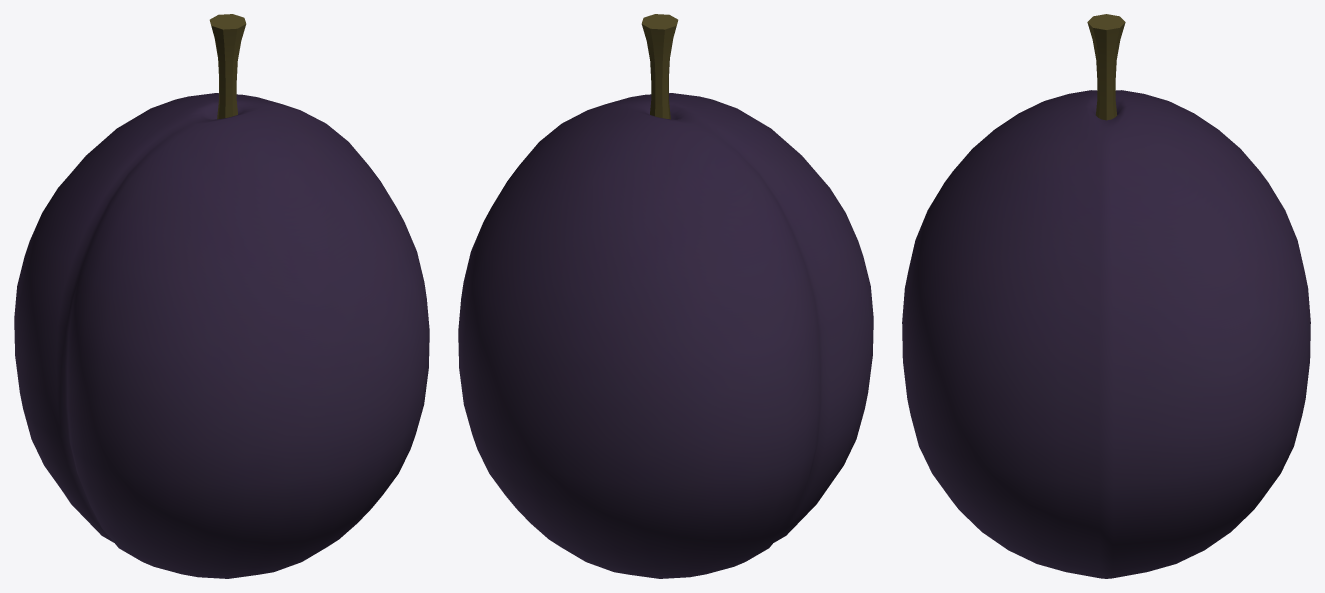
The model's file is Plum.fbx.
3 views of the same model, side by side, from view 1: azimuth 30°, elevation 25°; view 2: azimuth 150°, elevation 25°; view 3: azimuth 270°, elevation 25° (orthographic).
Parts seen in each view (by area): view 1: Plum; view 2: Plum; view 3: Plum.
Part boxes in pixels (left/top/right/bottom): Plum: left=14, top=14, right=429, bottom=578; Plum: left=458, top=14, right=873, bottom=578; Plum: left=902, top=14, right=1310, bottom=578.
Size of the model in its own units: 0.2679 by 0.399 by 0.2735.
1 material, 1 textured.
